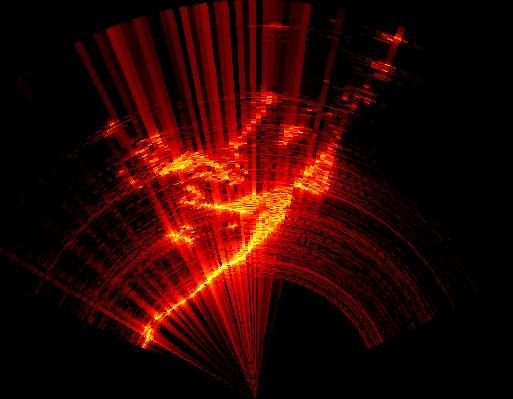shipwreck: (135, 99, 341, 343), (170, 221, 192, 248)
